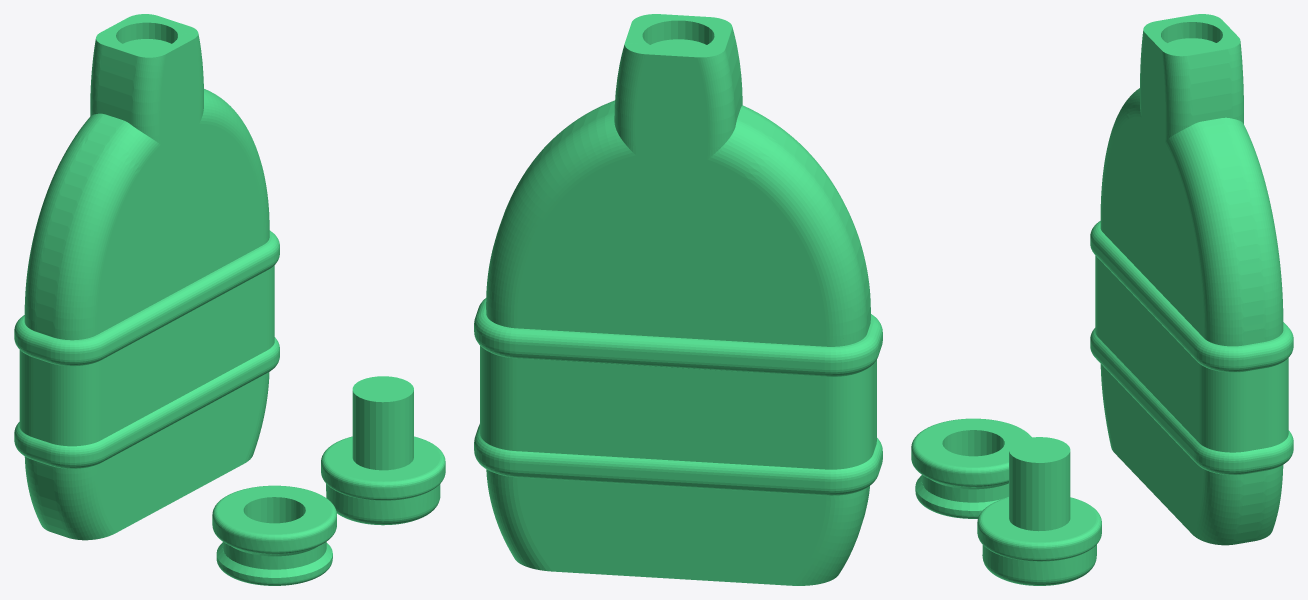
Rendered from canteen.glb.
3 renders of one model, left to right at view 1: azimuth 30°, elevation 25°; view 2: azimuth 150°, elevation 25°; view 3: azimuth 270°, elevation 25°, orthographic. The views are drawn at different scales.
Parts seen in each view (by area): view 1: vodka_bottle_ringed_fixed; view 2: vodka_bottle_ringed_fixed; view 3: vodka_bottle_ringed_fixed.
Boxes of the visible parts, left/top/right/bottom form: vodka_bottle_ringed_fixed: left=14, top=14, right=445, bottom=585; vodka_bottle_ringed_fixed: left=474, top=14, right=882, bottom=585; vodka_bottle_ringed_fixed: left=911, top=14, right=1293, bottom=585.
Size of the model in its own units: 1.91 by 2.29 by 1.75.
